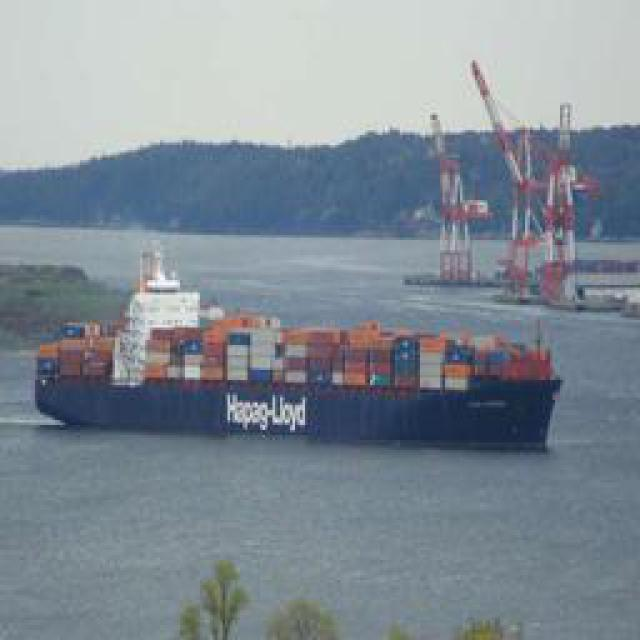Ship: (35, 300, 548, 440)
